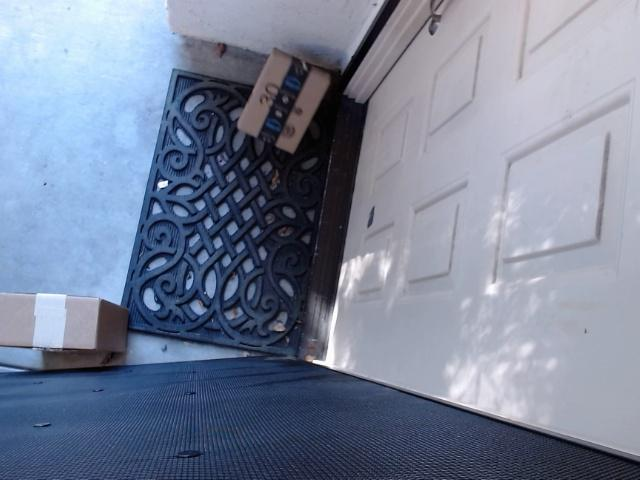box: (0, 286, 161, 370), (241, 38, 336, 170)
